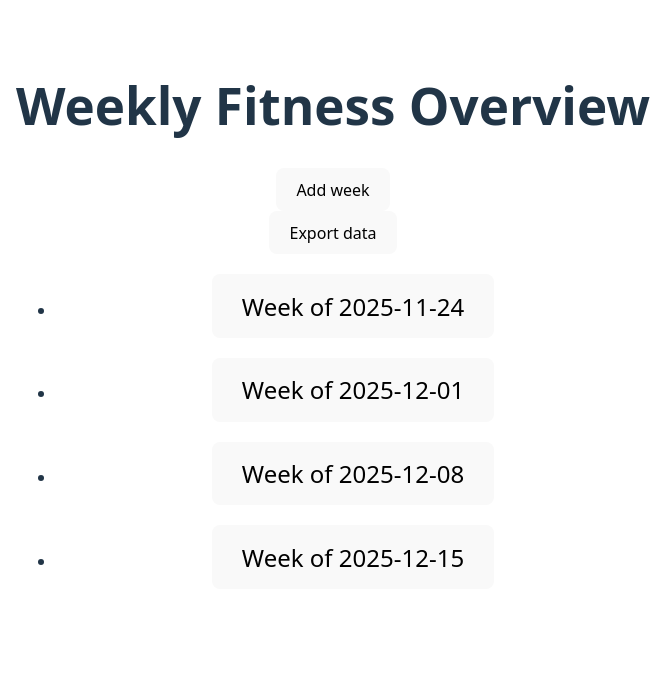
Test: WeeklyOverviewPage › add week: rejects selecting a date that belongs to an existing week
Click the button "Add week".
click(333, 190)  # box [276, 168, 390, 211]
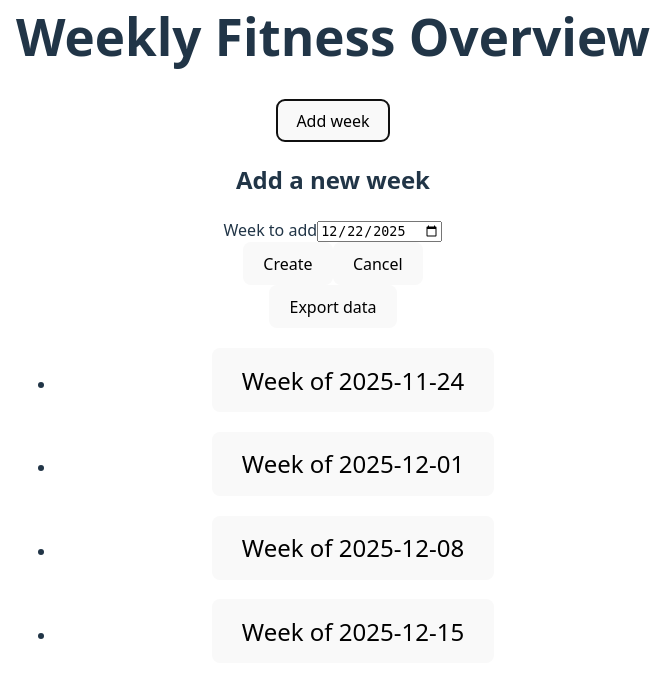
Type "2025-12-04" into the date field labelled "Week to add".
click(380, 231); type("2025-12-04")  # box [317, 221, 442, 242]
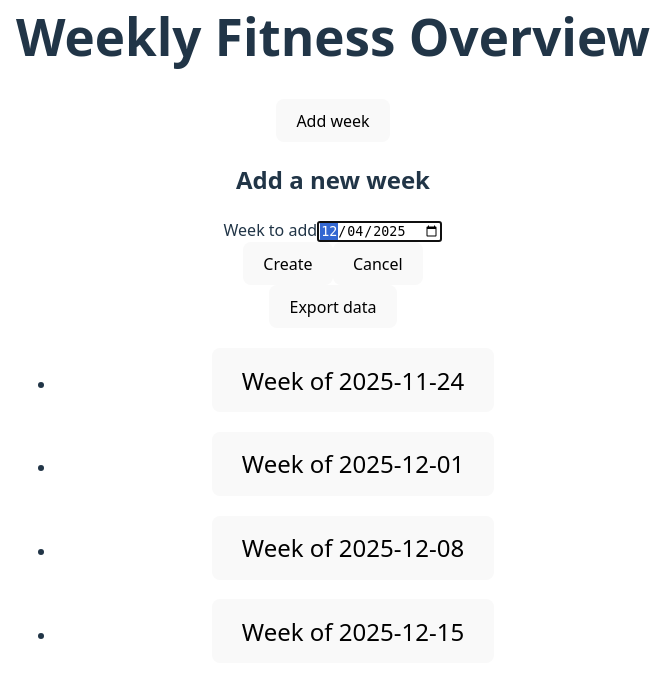
Click the button "Create".
click(288, 264)  # box [243, 242, 333, 285]
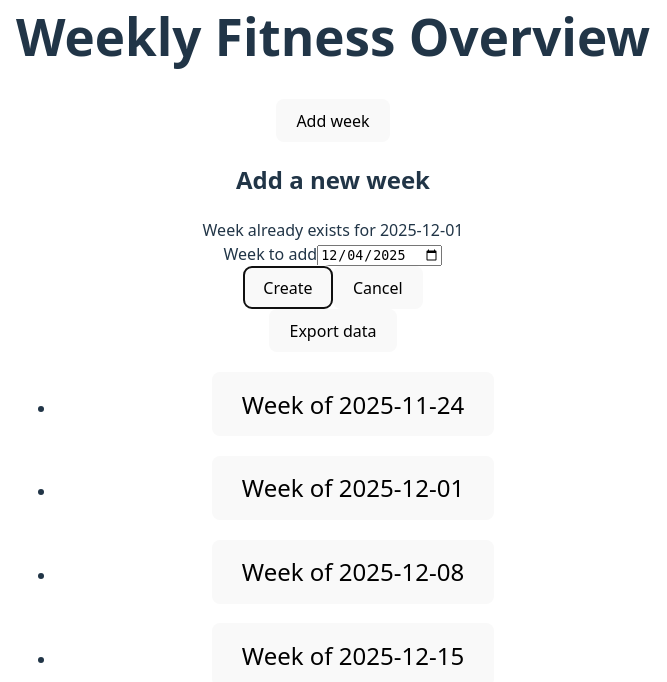
Check: the message shows "already exists", box [202, 219, 463, 241]
